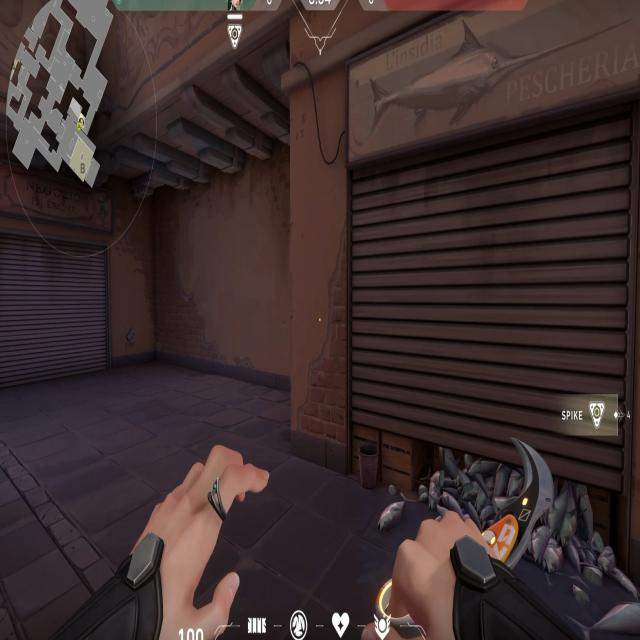B_Main_Corner: (290, 19, 639, 503)
